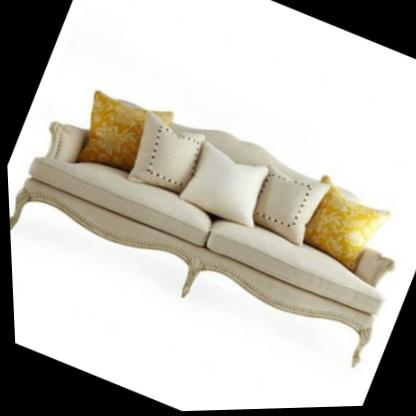Sofa: (2, 57, 416, 382)
